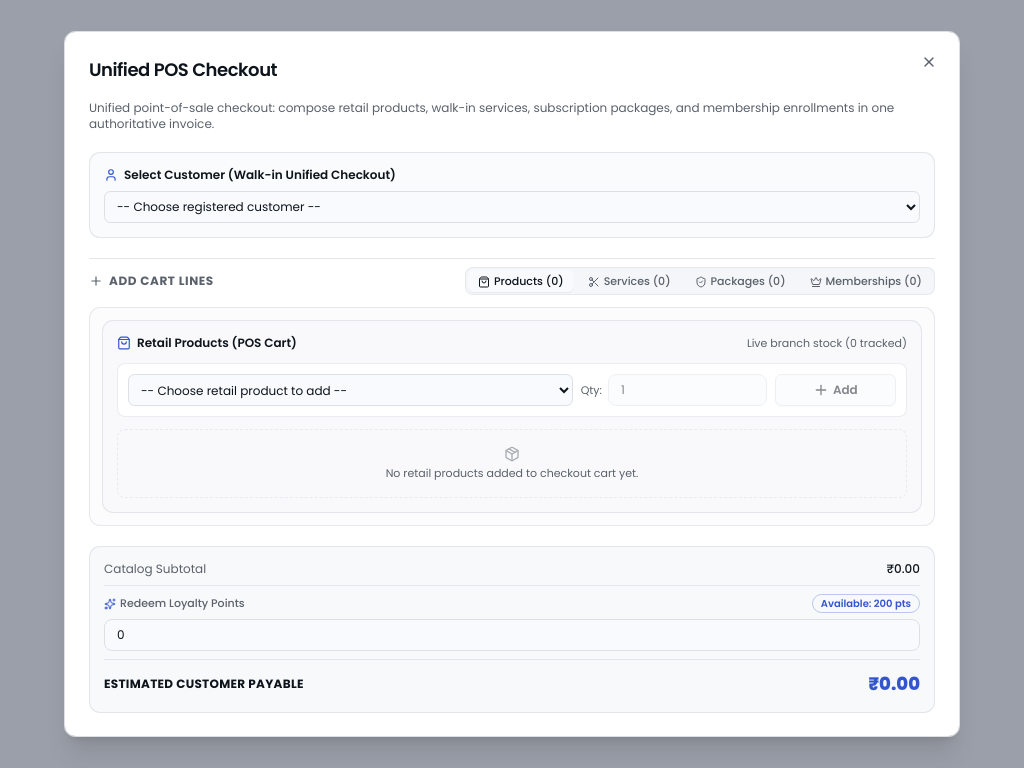
Scenario: UnifiedCheckoutDialog (CreateInvoiceDialog Unified Engine) › adds a membership plan and displays live in-flight tier discount preview
# Add Service
Click the button "Services (0)". click: (629, 281)
box: [578,270,680,292]
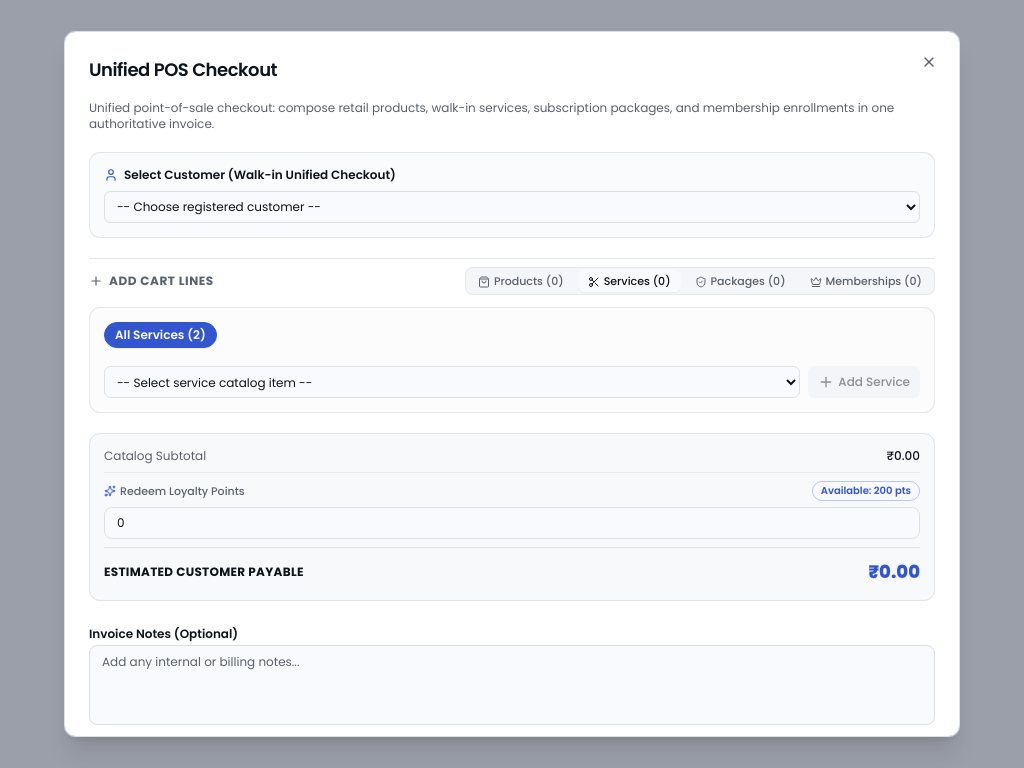
Select "Aromatherapy Massage (60m) — ₹2,000.00" in the 2nd dropdown. click: (452, 382)
box: [104,366,800,398]
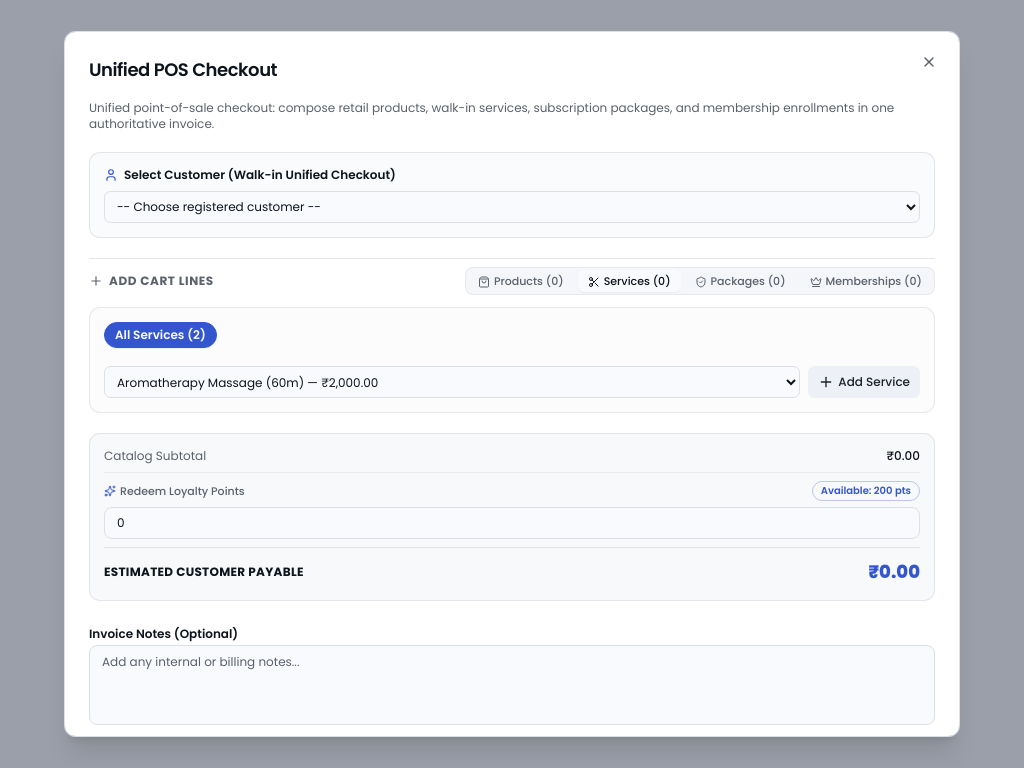
Click the button "Add Service". click: (864, 382)
box: [808,366,920,398]
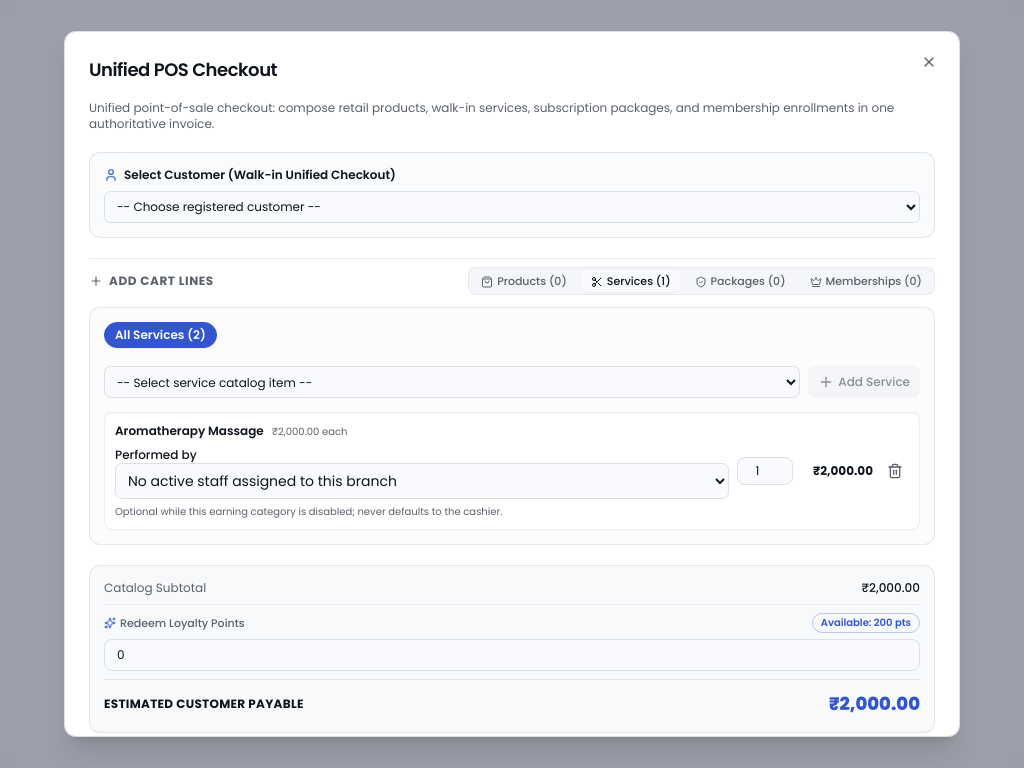
# Add Membership Plan
Click the button "Memberships (0)". click: (866, 281)
box: [800,270,932,292]
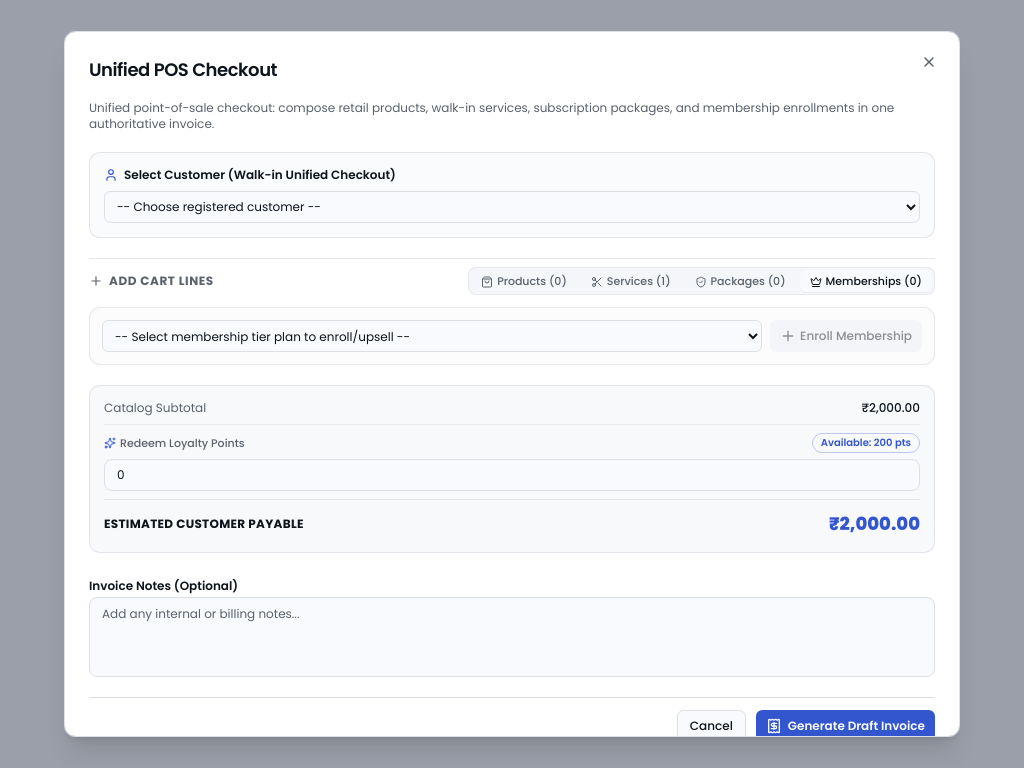
Select "VIP Gold (Gold Tier) — ₹2,999.00 [15% svc / 10% prod]" in the dropdown showing "Select membership tier plan". click: (432, 336)
box: [102,320,762,352]
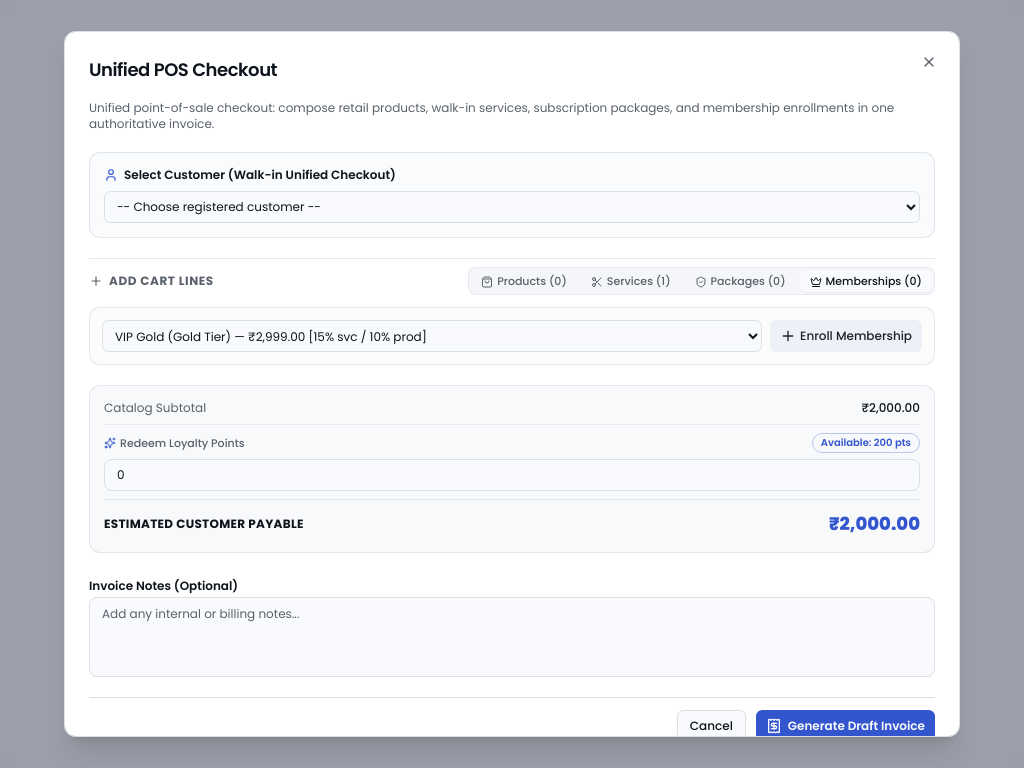
Click the button "Enroll Membership". click: (846, 336)
box: [770,320,922,352]
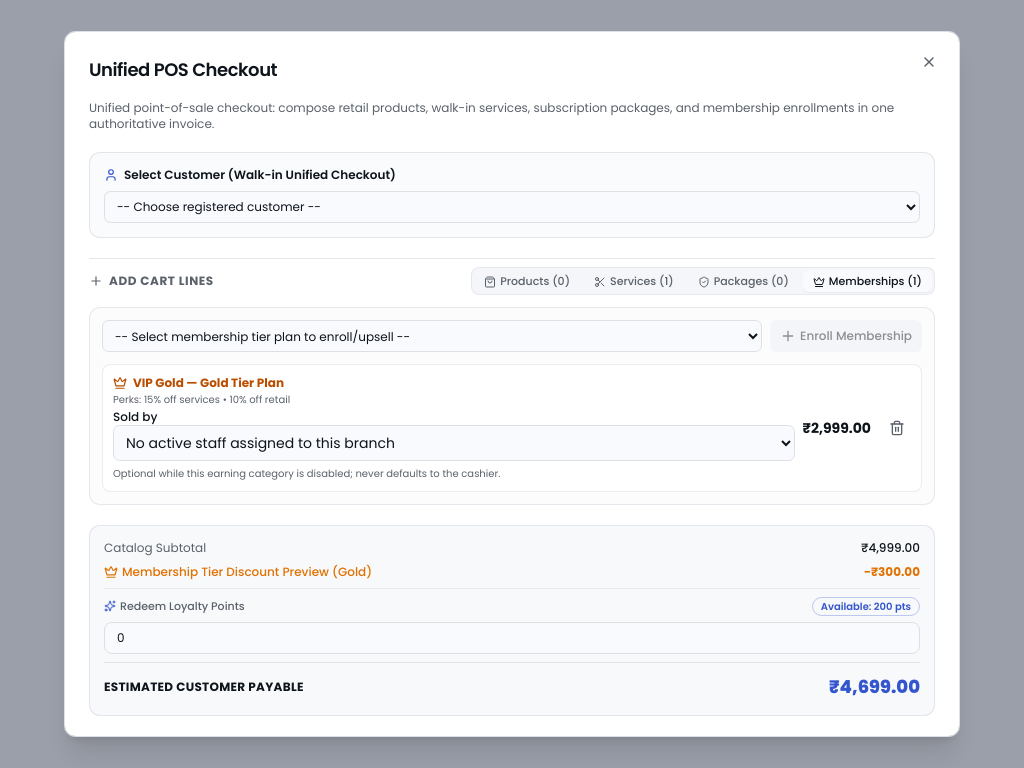
Now the text "VIP Gold — Gold Tier Plan" is shown, box [113,374,284,391]
Now the text "Membership Tier Discount Preview (Gold)" is shown, box [104,564,372,580]
Now the text "-₹300.00" is shown, box [864,564,920,580]
